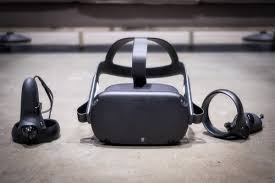oculus: (75, 71, 203, 150)
